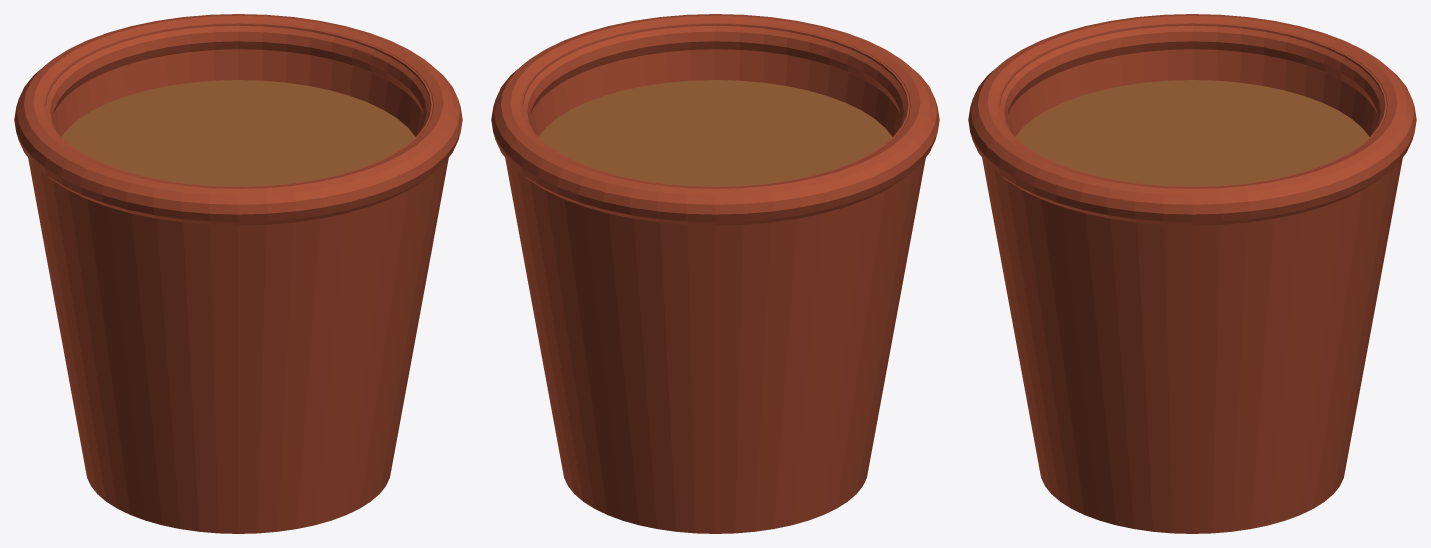
File: terracotta-planter.obj
The picture shows the model from 3 angles, left to right: view 1: azimuth 30°, elevation 25°; view 2: azimuth 150°, elevation 25°; view 3: azimuth 270°, elevation 25°; orthographic projection.
Bounding box in the file's own units: 0.558 × 0.504 × 0.558.
